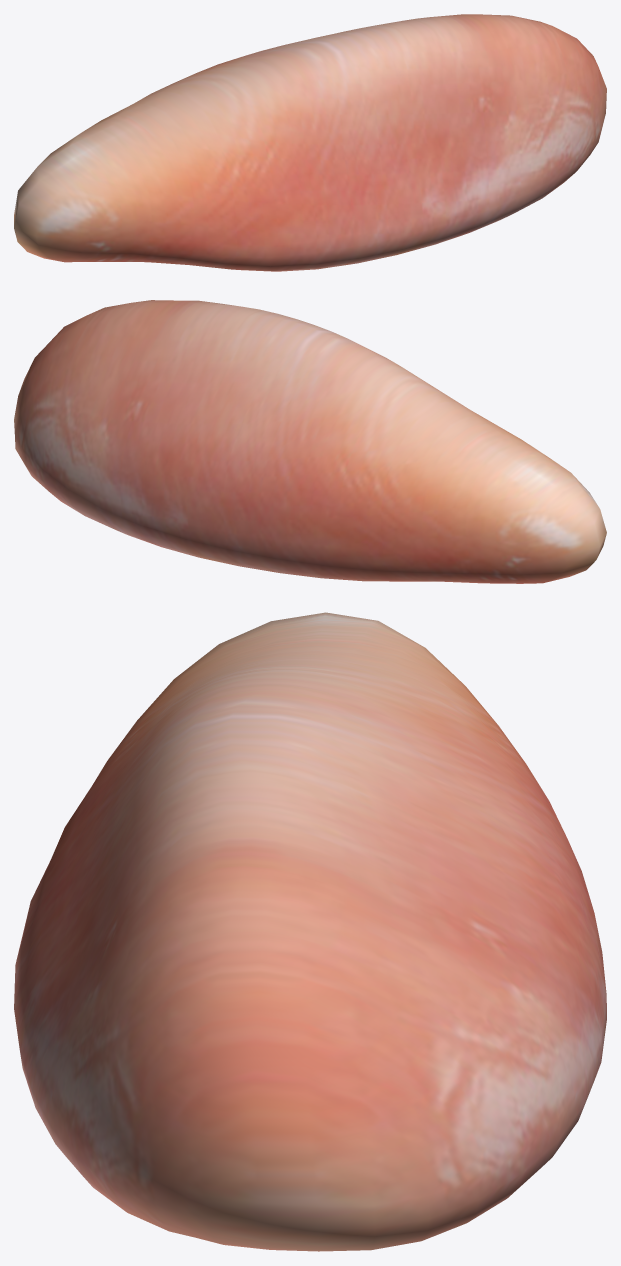
Rendered from kipfillet 1.fbx.
The picture shows the model from 3 angles, top to bottom: view 1: azimuth 30°, elevation 25°; view 2: azimuth 150°, elevation 25°; view 3: azimuth 270°, elevation 25°; orthographic projection. The views are drawn at different scales.
Parts seen in each view (by area): view 1: Sphere; view 2: Sphere; view 3: Sphere.
Part boxes in pixels (left/top/right/bottom): Sphere: left=14, top=14, right=606, bottom=271; Sphere: left=14, top=300, right=606, bottom=583; Sphere: left=14, top=612, right=606, bottom=1251.
Bounding box in the file's own units: 223 × 66.56 × 104.
